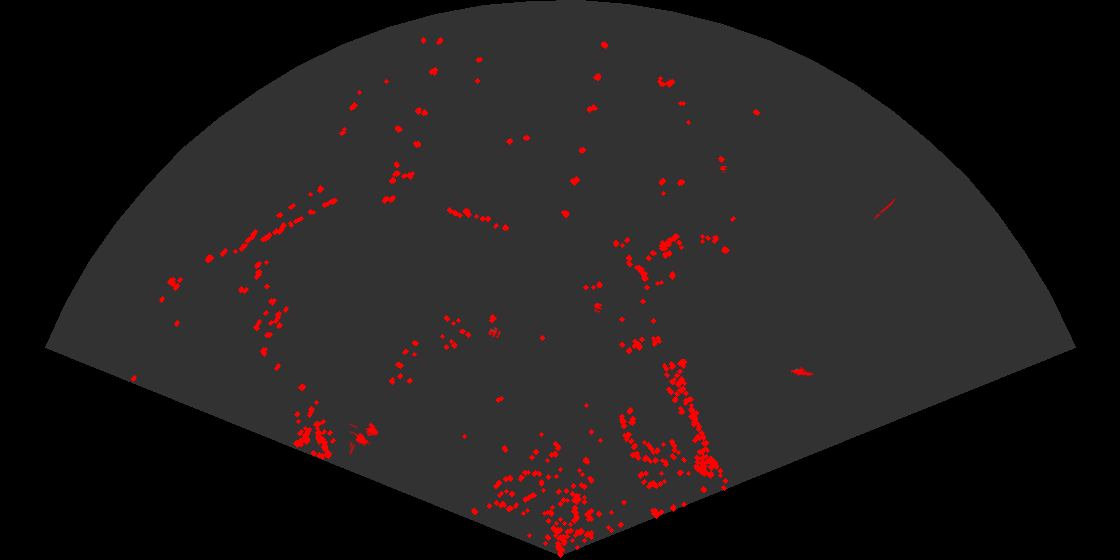ball: (487, 325, 502, 340), (592, 301, 604, 314), (719, 165, 729, 174)
cage: (350, 421, 380, 455)
chain: (874, 197, 898, 221)
frogman: (791, 365, 813, 378)
